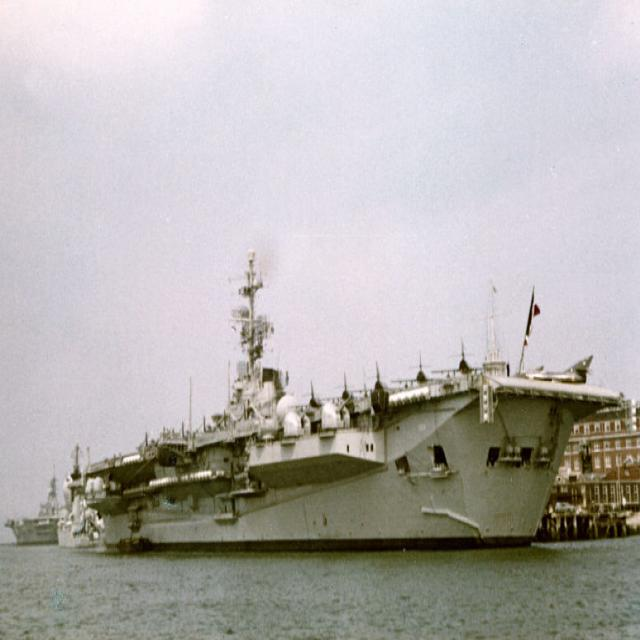Portanaves: (72, 253, 620, 553)
